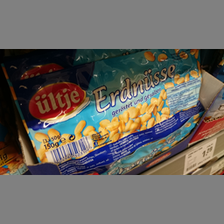nuts: (12, 49, 203, 175)
